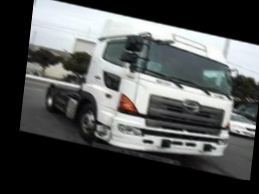car: (225, 112, 257, 141)
